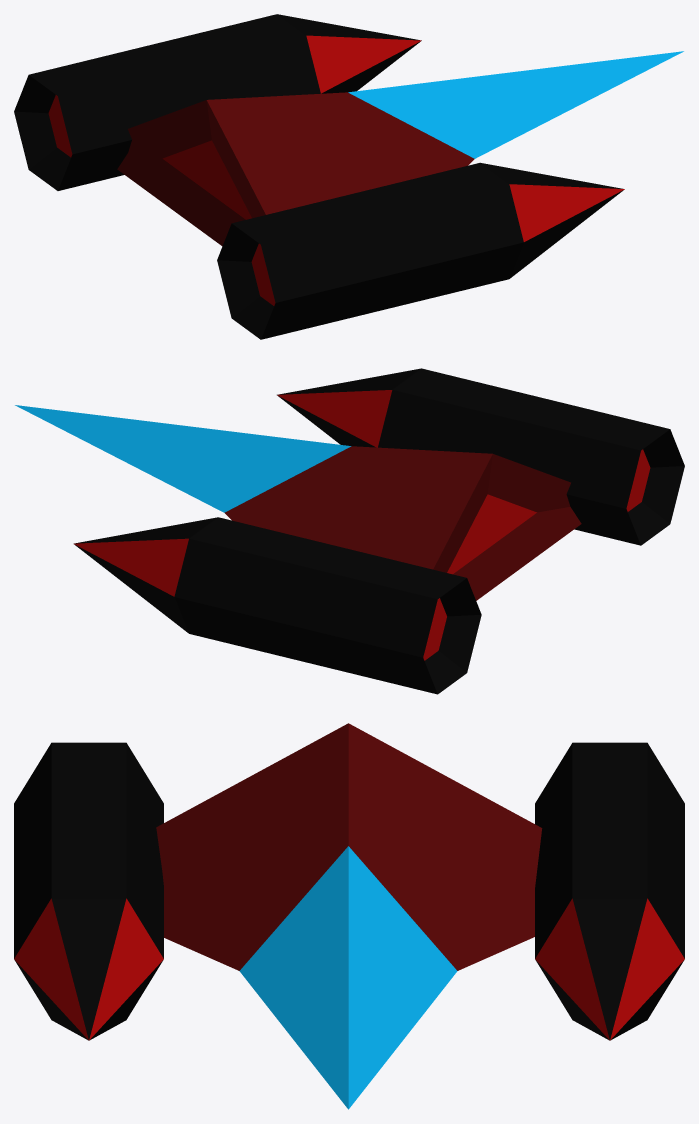
File: Enemy4.fbx
3 renders of one model, top to bottom at view 1: azimuth 30°, elevation 25°; view 2: azimuth 150°, elevation 25°; view 3: azimuth 270°, elevation 25°, orthographic. The views are drawn at different scales.
Visible parts, largest first — view 1: Cone.004; view 2: Cone.004; view 3: Cone.004.
Boxes of the visible parts, x1,y1,x2,y2 form: Cone.004: (14, 14, 683, 339); Cone.004: (15, 368, 684, 694); Cone.004: (14, 723, 684, 1109).
Size of the model in its own units: 481 by 119 by 403.
